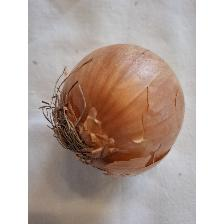Zwiebel: (41, 42, 186, 182)
